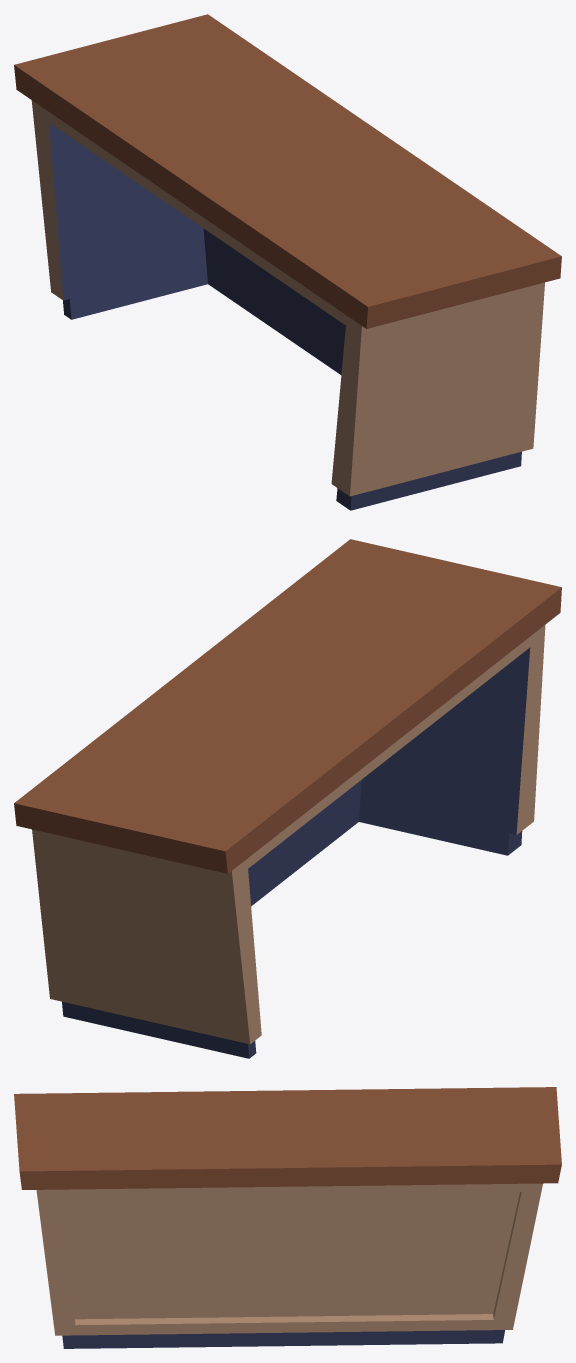
File: teacherDesk_v01.fbx
3 views of the same model, one above another, from view 1: azimuth 30°, elevation 25°; view 2: azimuth 150°, elevation 25°; view 3: azimuth 270°, elevation 25° (orthographic). The views are drawn at different scales.
Visible parts, largest first — view 1: pasted__pCube5; view 2: pasted__pCube5; view 3: pasted__pCube5.
Boxes of the visible parts, left/top/right/bottom form: pasted__pCube5: left=14, top=14, right=561, bottom=510; pasted__pCube5: left=14, top=539, right=561, bottom=1058; pasted__pCube5: left=14, top=1087, right=561, bottom=1348.
Bounding box in the file's own units: 102 × 103 × 279.
